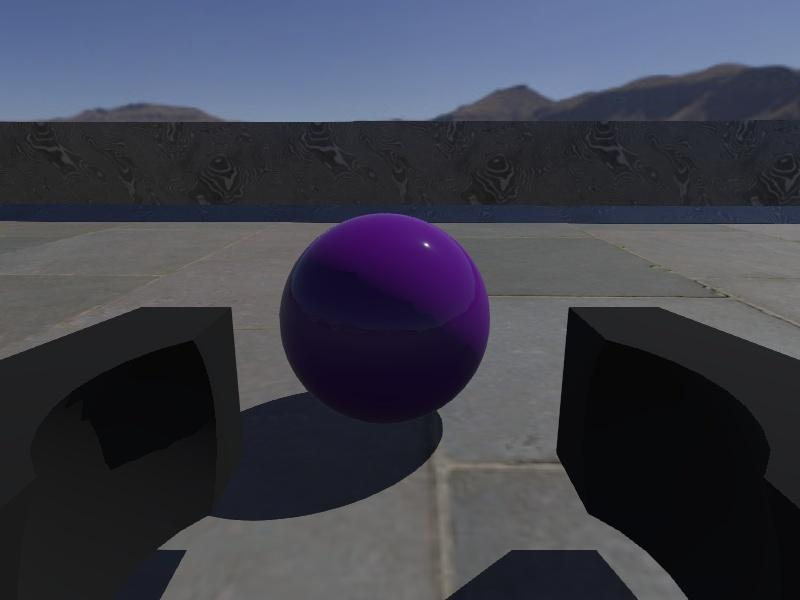violet ball: (278, 211, 491, 427)
